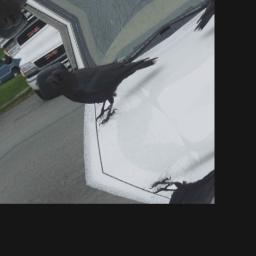Crow: (43, 18, 172, 136)
